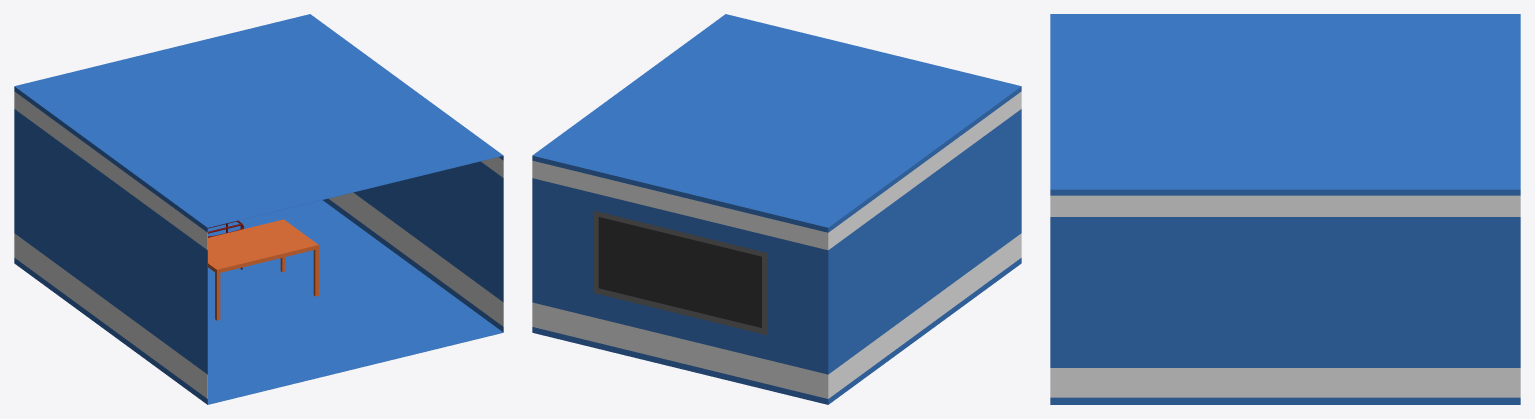
File: Interrogation_Room 1.fbx
The picture shows the model from 3 angles, left to right: view 1: azimuth 30°, elevation 25°; view 2: azimuth 150°, elevation 25°; view 3: azimuth 270°, elevation 25°; orthographic projection. The views are drawn at different scales.
Parts seen in each view (by area): view 1: Walls, Table; view 2: Walls; view 3: Walls.
Part boxes in pixels (x1,y1,x2,y2): Walls: [14, 14, 503, 404]; Table: [208, 219, 318, 320]; Walls: [532, 14, 1021, 404]; Walls: [1050, 14, 1520, 404].
Size of the model in its own units: 1405 by 803 by 1590.
